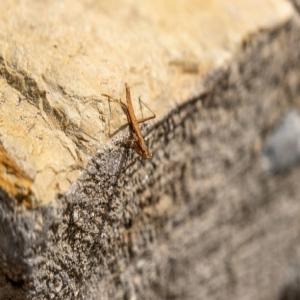locust: (105, 71, 170, 178)
